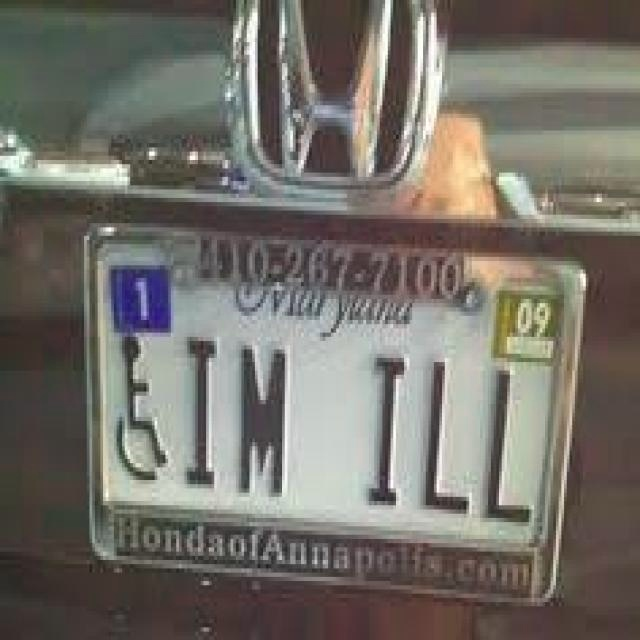ISA: (104, 334, 176, 492)
